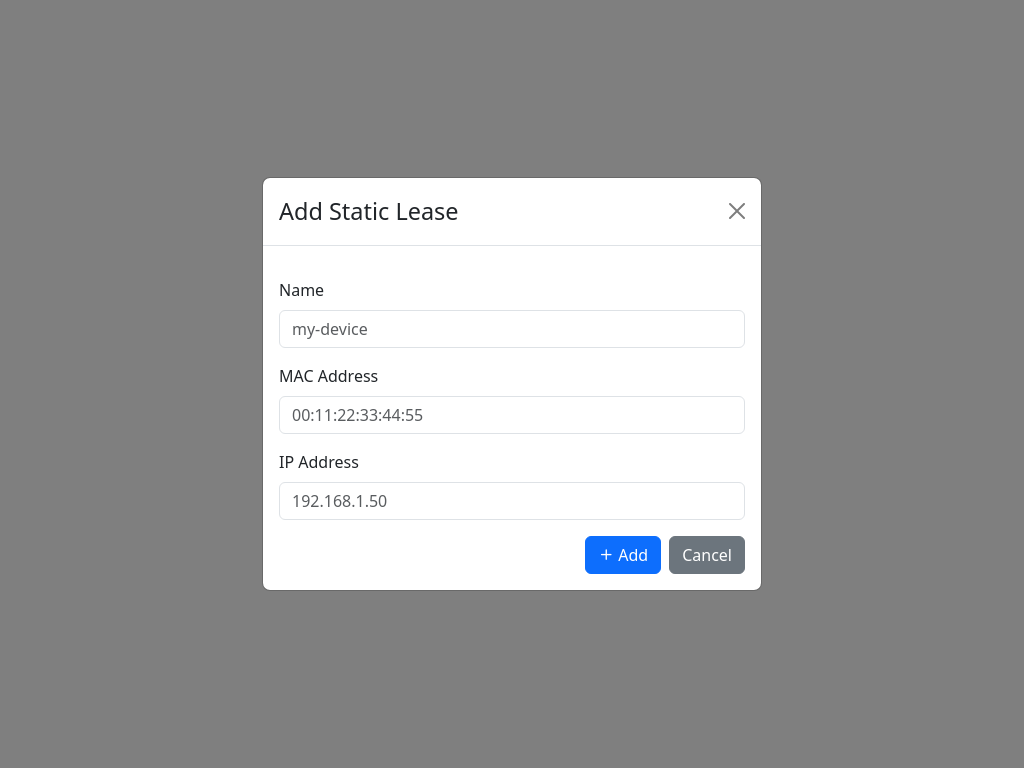
AddStaticLeaseModal › blocks submit and reports all three errors when every field is blank
The image size is (1024, 768).
Step 1. Click the button "Add" → (623, 555), box x1=585 y1=536 x2=661 y2=574
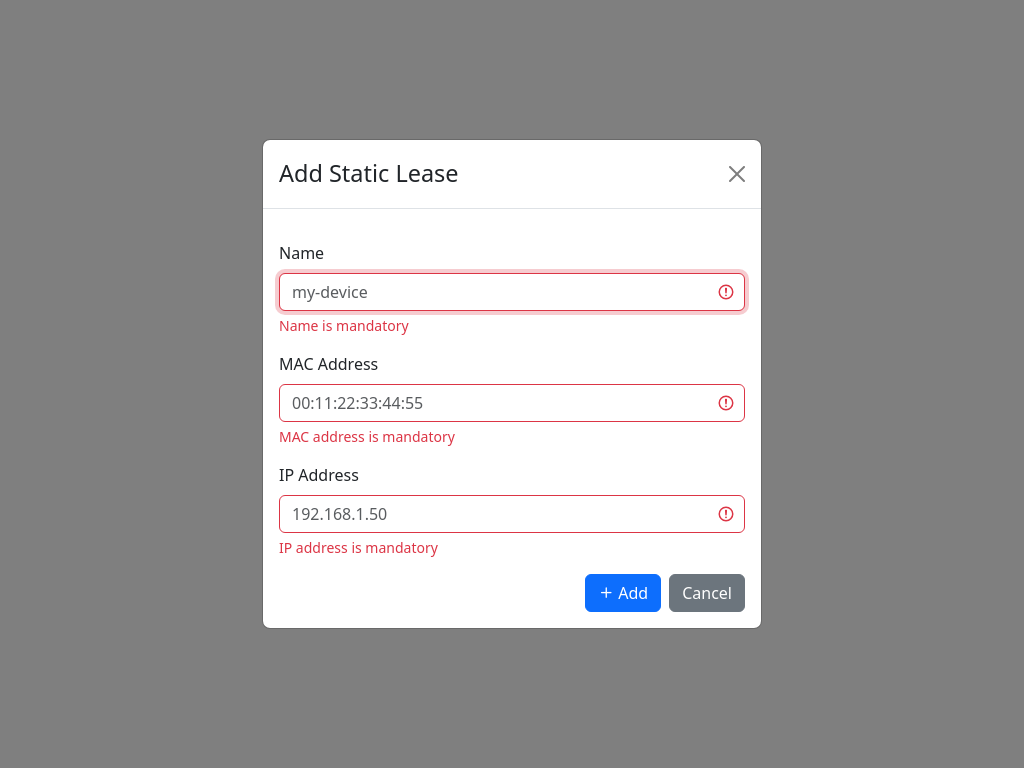
Result: the text "Name is mandatory" is shown at x1=279 y1=316 x2=409 y2=335
Result: the text "MAC address is mandatory" is shown at x1=279 y1=427 x2=455 y2=446
Result: the text "IP address is mandatory" is shown at x1=279 y1=538 x2=438 y2=557
